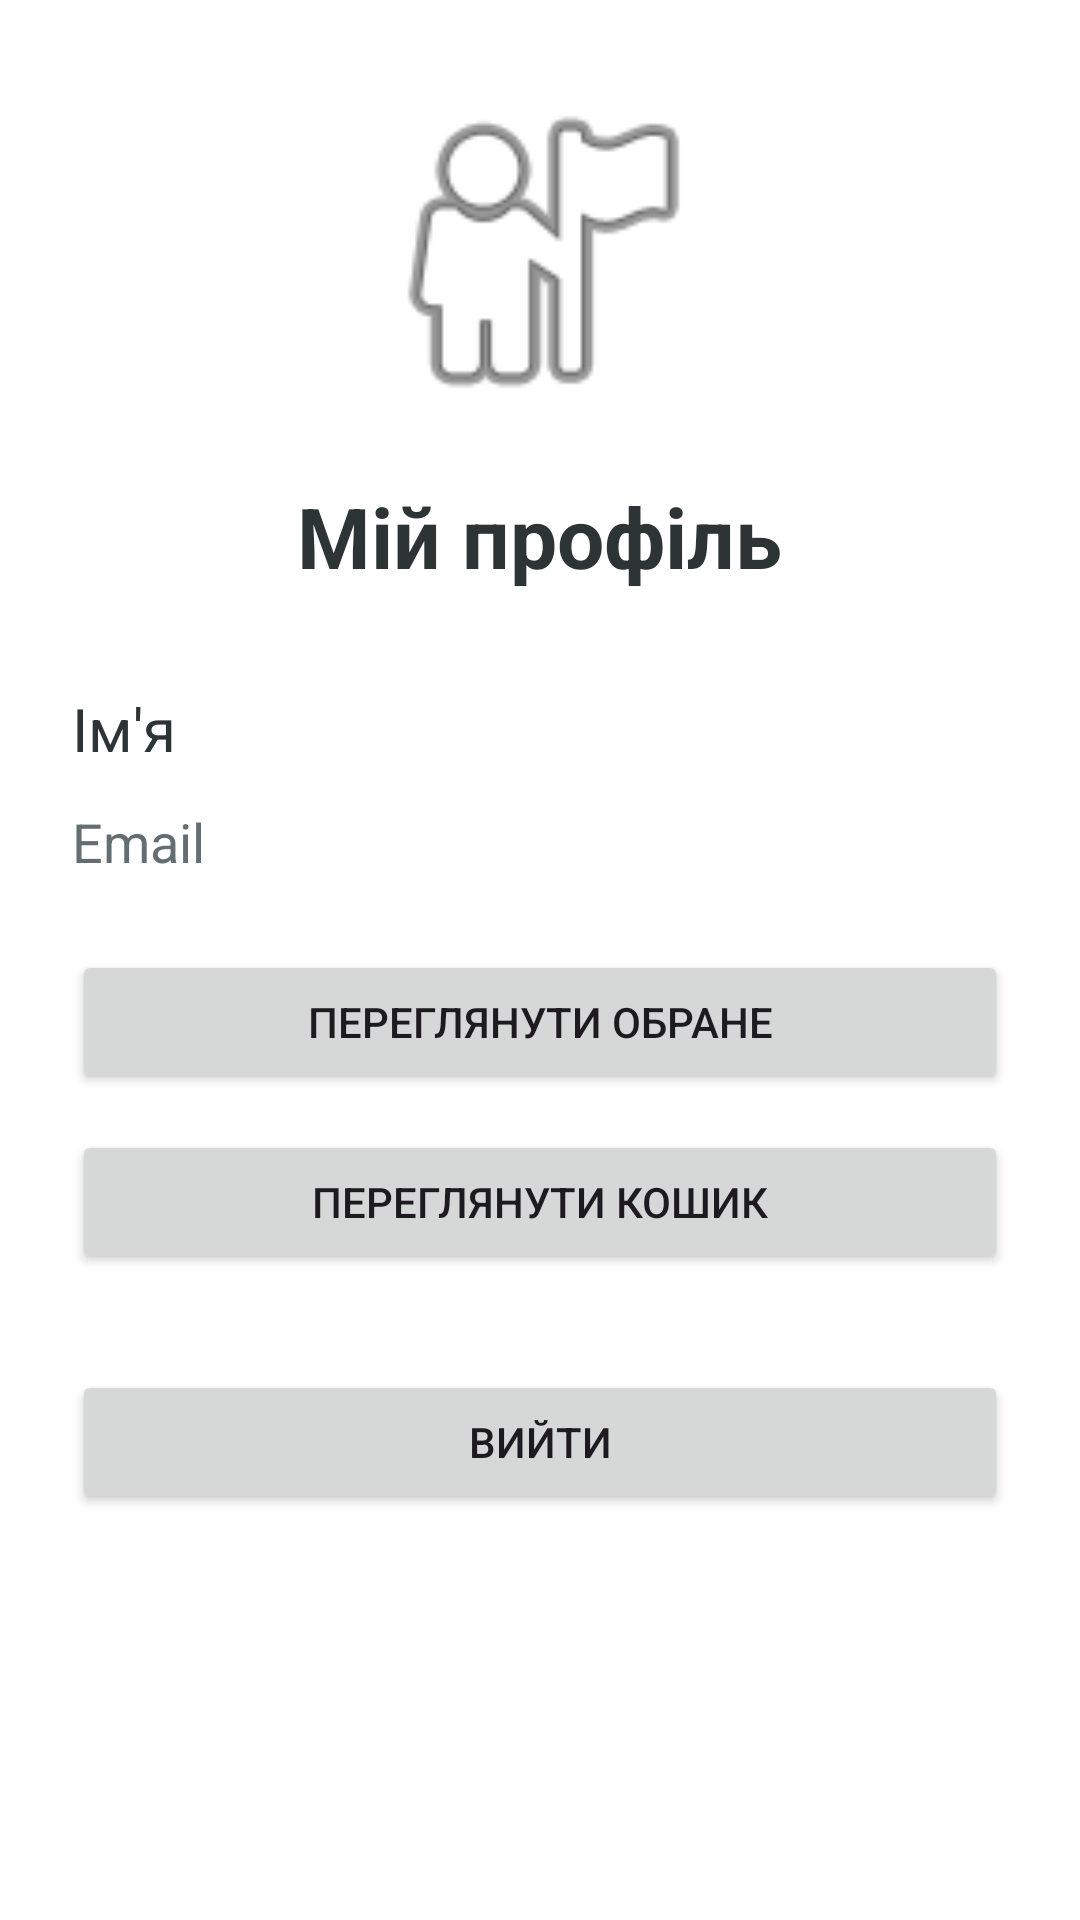

Screen size 1080 x 1920. Icon name, then its center in pixels as (x=x, y=y):
Profile image: (x=543, y=252)
